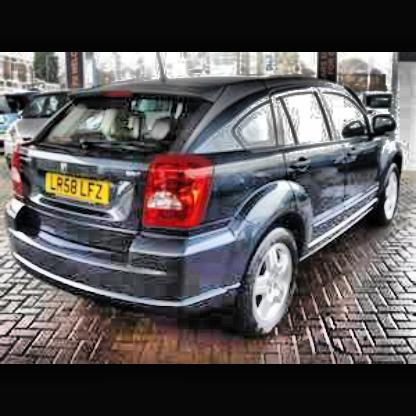Dodge Caliber Wagon 2012: (6, 78, 406, 340)
